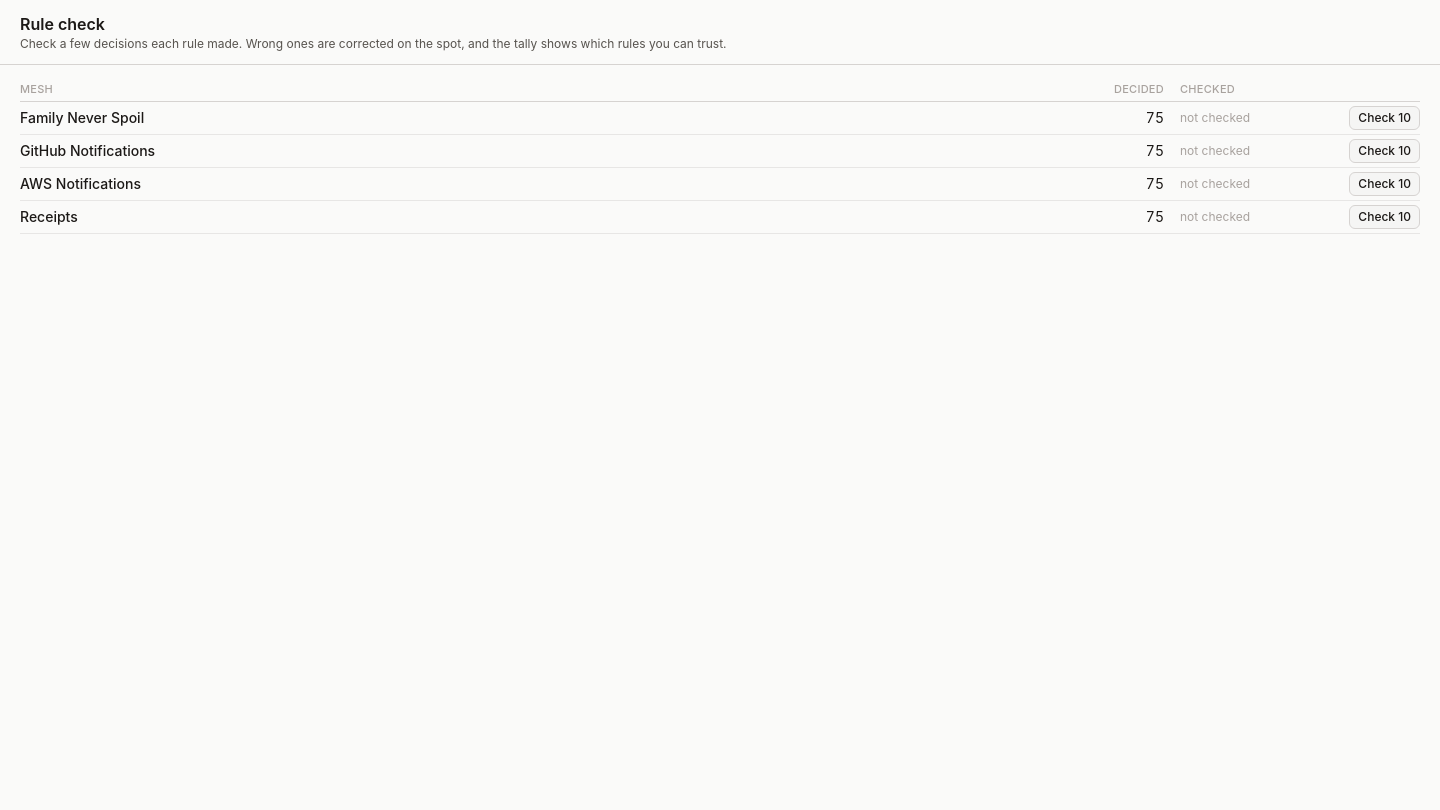
Test: the rule check › records a Right and shows it in the tally
The image size is (1440, 810).
What coordinates should you click on to do the following:
click the button "Check 10" in the row of "Family Never Spoil"
I would click on:
 (1385, 118)
Its box is [1349,106,1420,130].
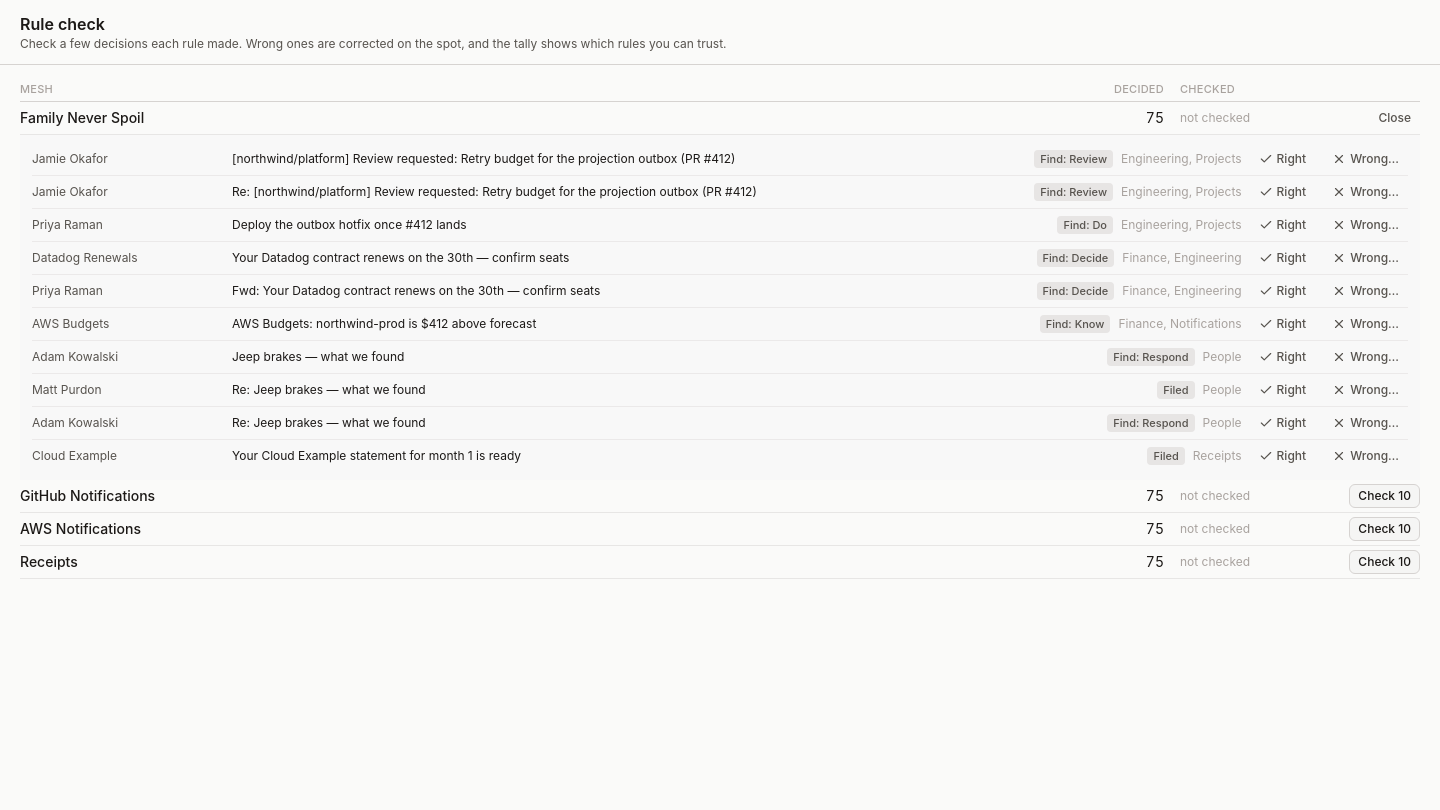
What coordinates should you click on to do the following:
click the 1st button "Right"
I would click on:
 (1282, 159)
Its box is [1250,147,1315,171].
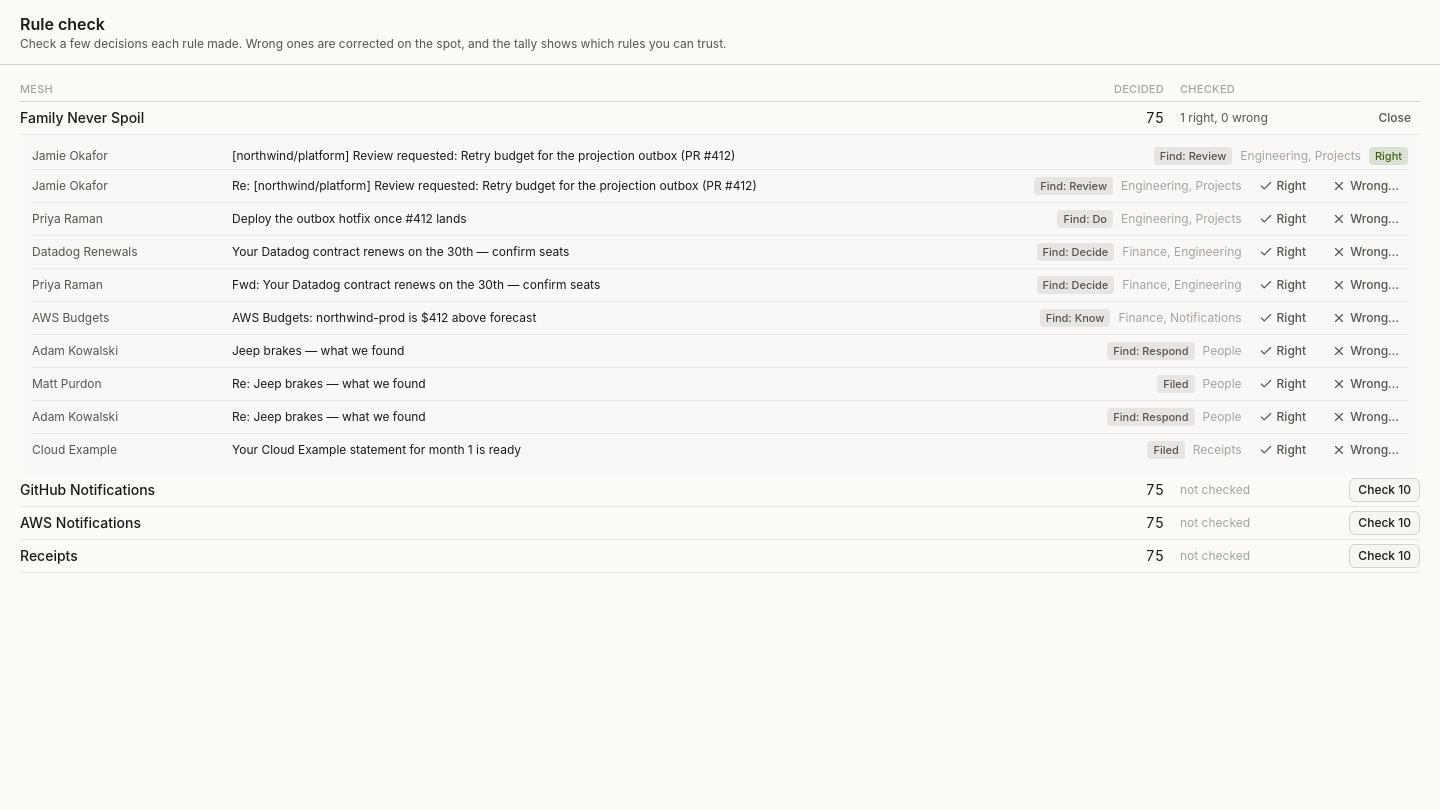
Result: the text "1 right, 0 wrong" is shown at [1180,110,1268,125]
